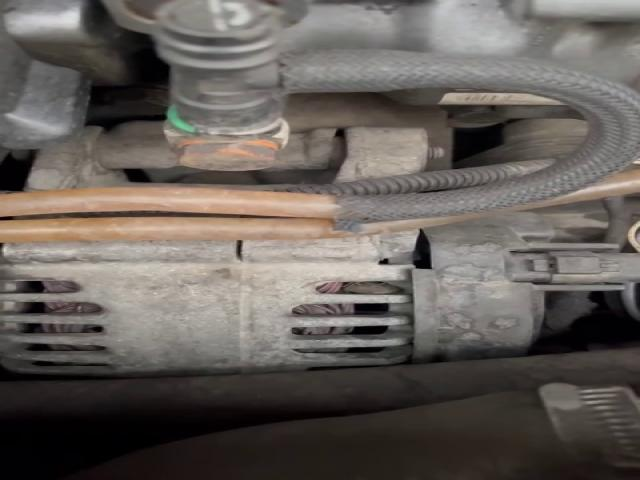alternator: (0, 232, 414, 375)
